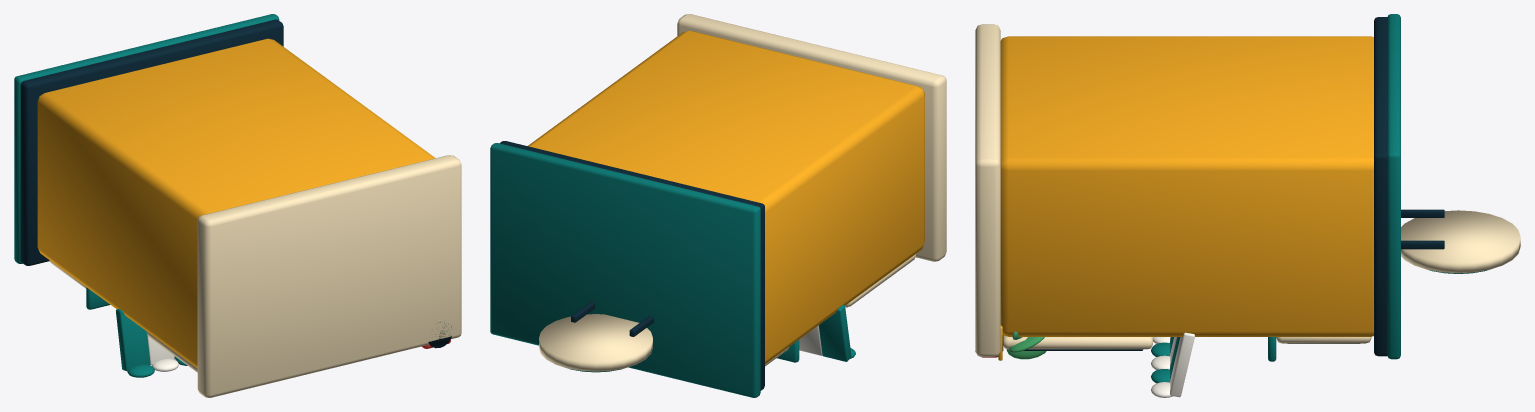
File: ArcadeFacade2.fbx
3 views of the same model, side by side, from view 1: azimuth 30°, elevation 25°; view 2: azimuth 150°, elevation 25°; view 3: azimuth 270°, elevation 25° (orthographic). The views are drawn at different scales.
Visible parts, largest first — view 1: ArcadeFacade2; view 2: ArcadeFacade2; view 3: ArcadeFacade2.
Part boxes in pixels (<box>): ArcadeFacade2: <box>14,14,461,397</box>; ArcadeFacade2: <box>490,14,946,397</box>; ArcadeFacade2: <box>975,14,1520,397</box>.
Bounding box in the file's own units: 2.92 × 2.42 × 4.74.
